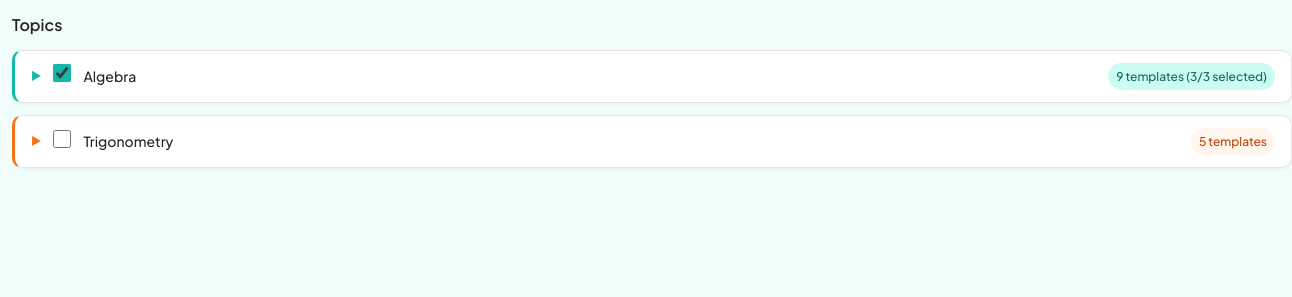
Scenario: TopicSelector › dot-notation serialization › bare topic name in selected prop is parsed as all subtopics selected
Step 1. Click the button "▶ Algebra 9 templates (3/3 selected)" → coordinates (110, 76), box [31,63,1275,90]
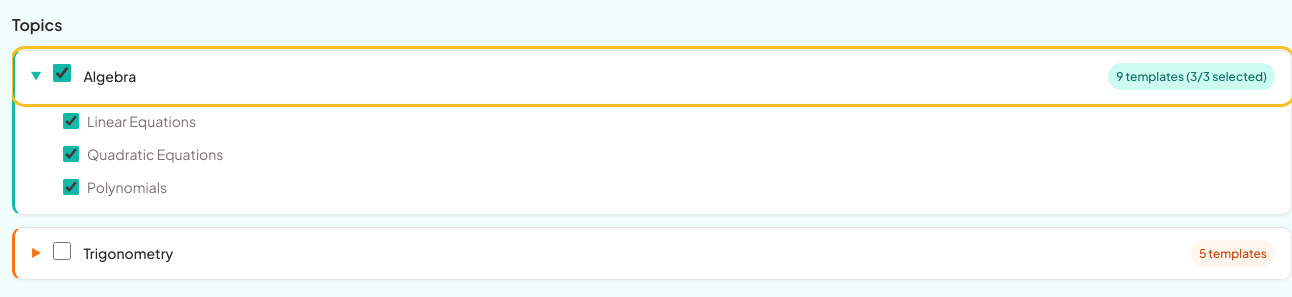
Expected: the checkbox labelled "Linear Equations" is checked, [63,113,79,129]
Expected: the checkbox labelled "Quadratic Equations" is checked, [63,146,79,162]
Expected: the checkbox labelled "Polynomials" is checked, [63,179,79,195]
